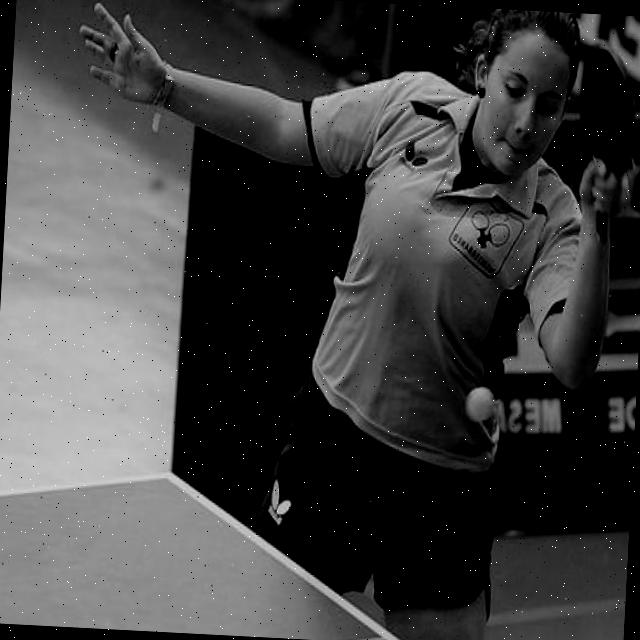ping-pong-ball: (464, 384, 496, 424)
